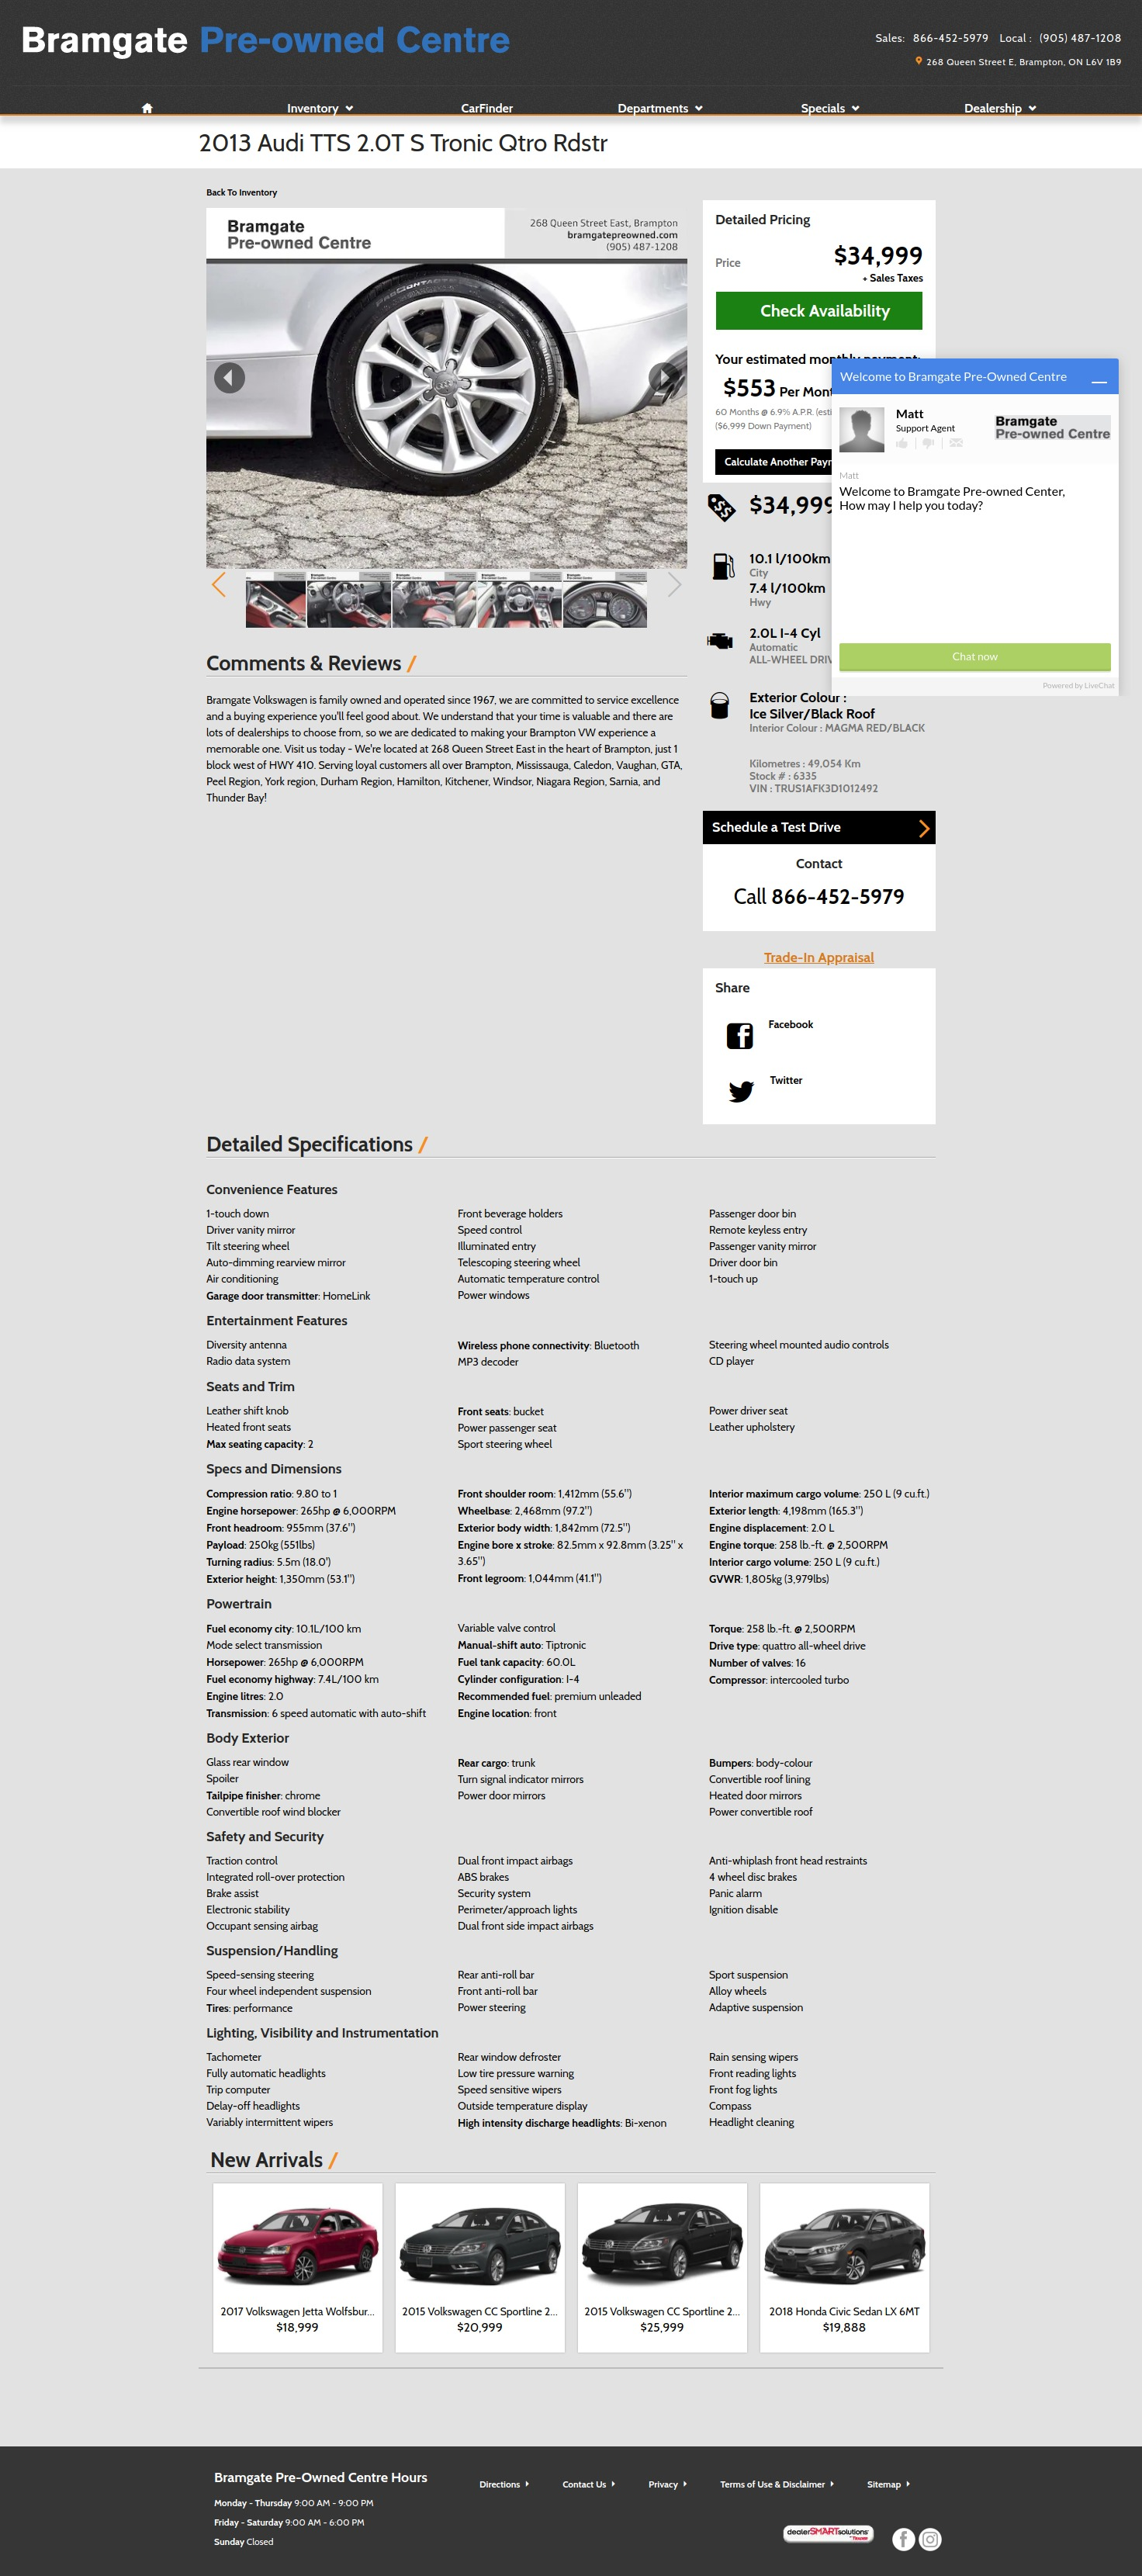car: (649, 363, 680, 394)
